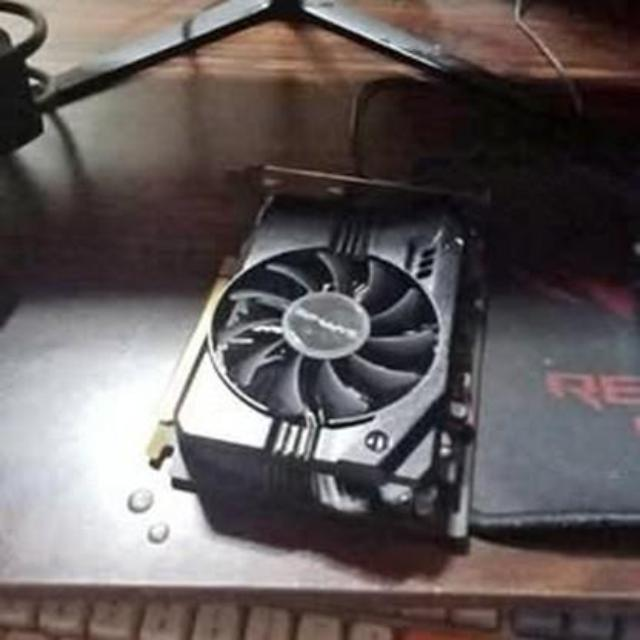GPU: (148, 142, 486, 570)
